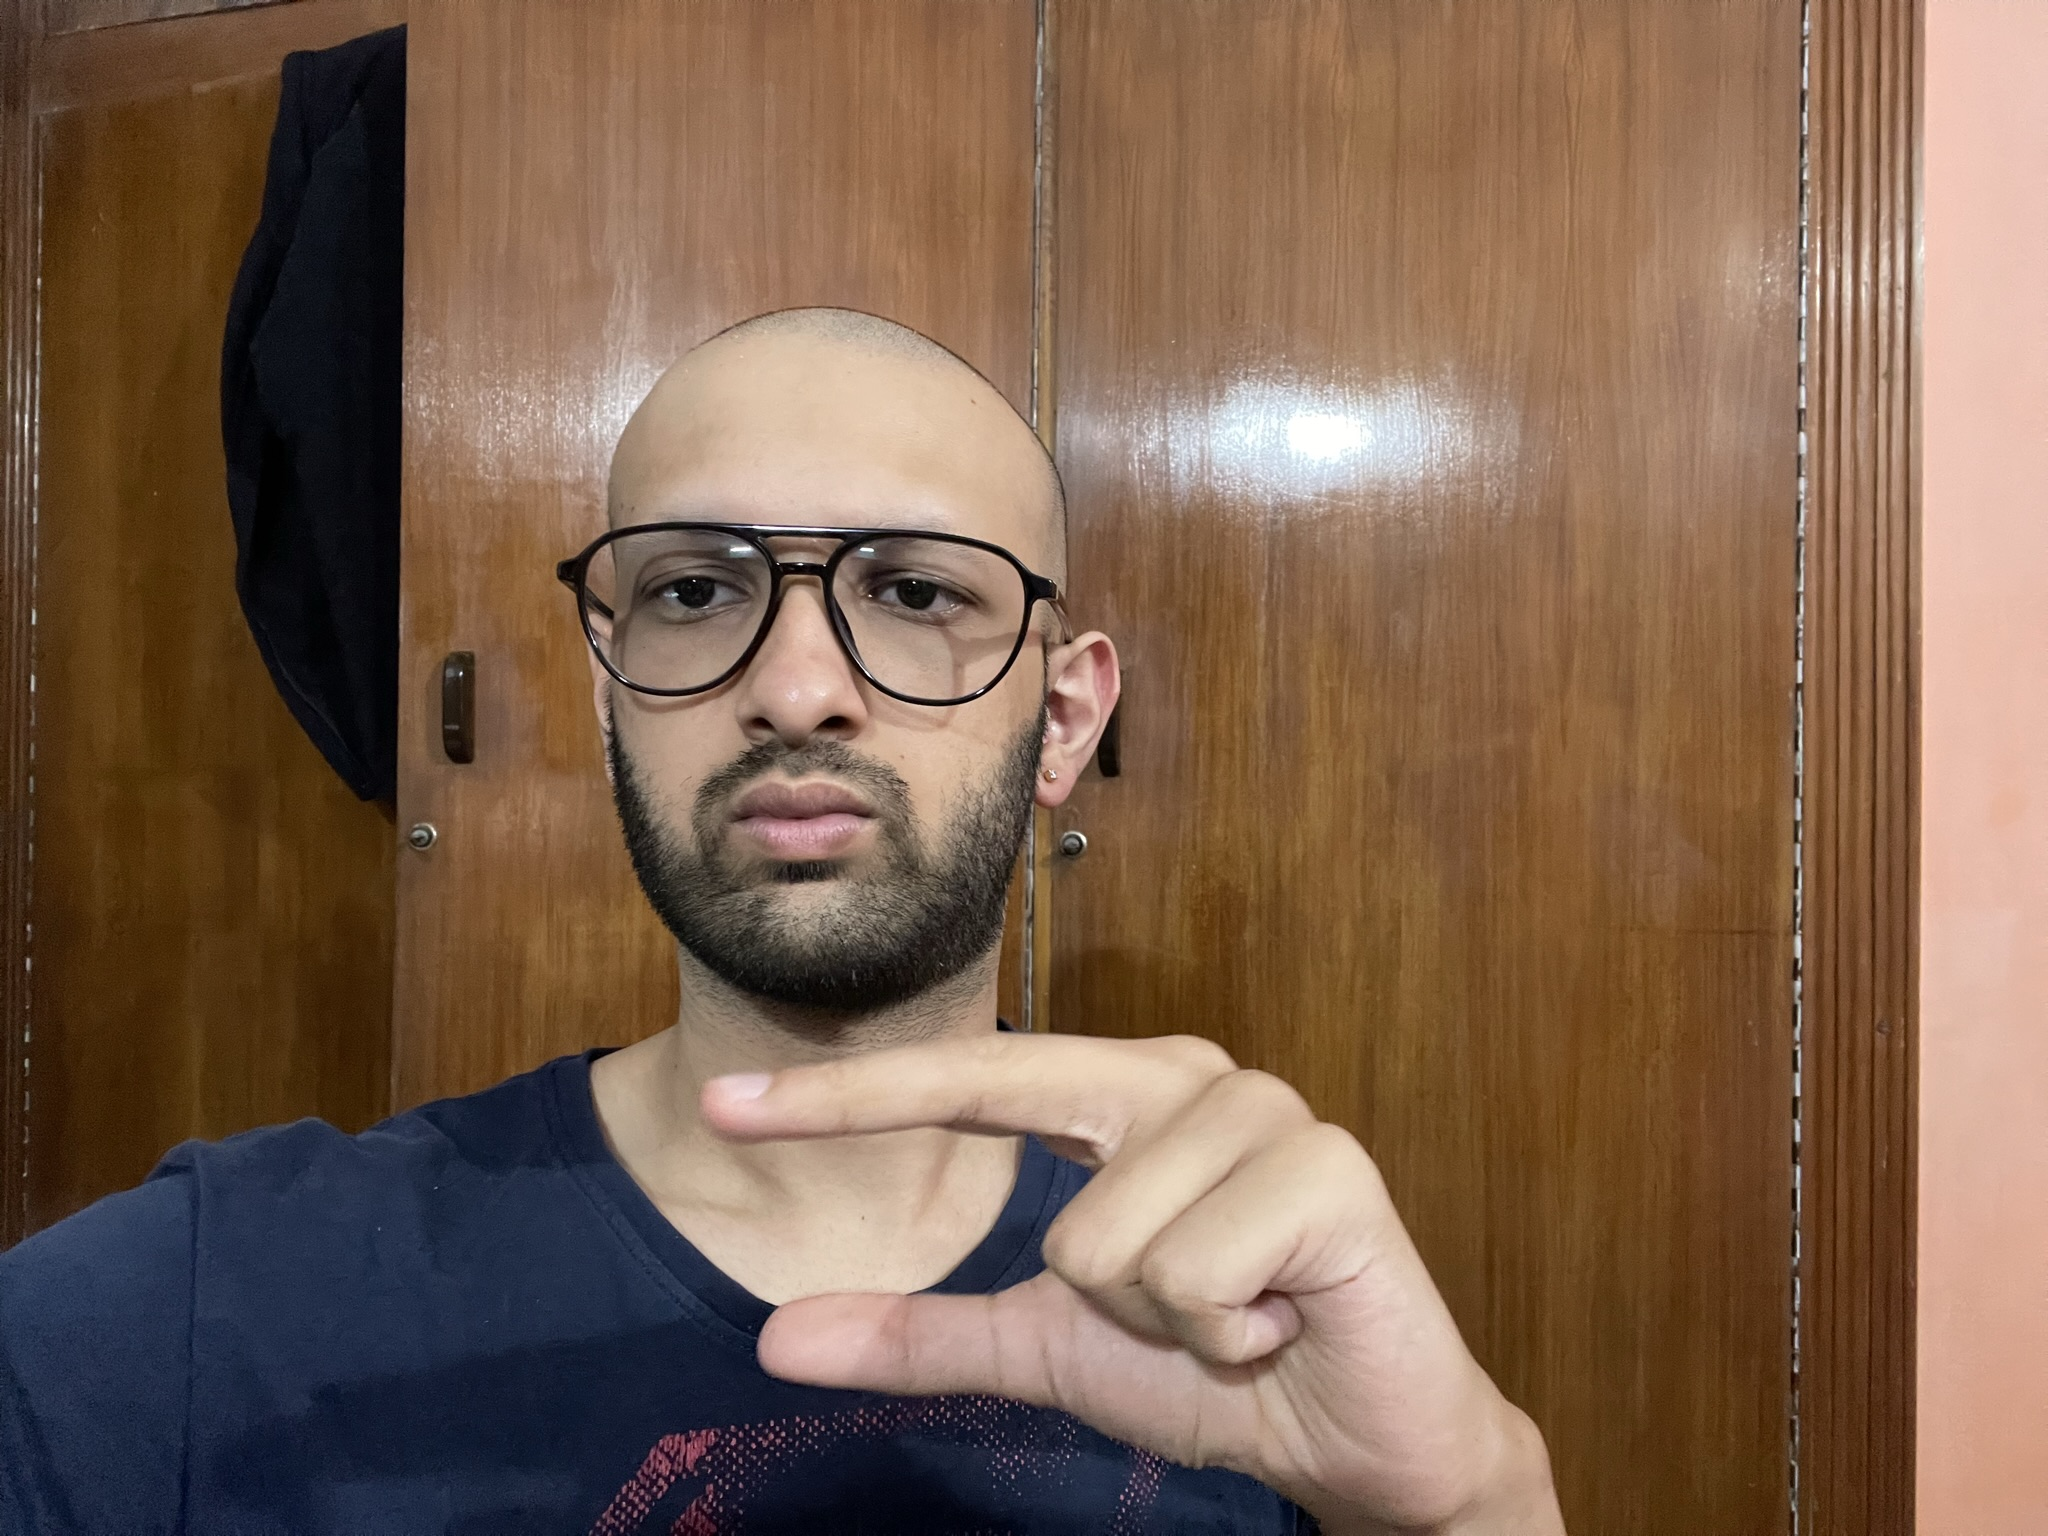No: (690, 1012, 1540, 1518)
